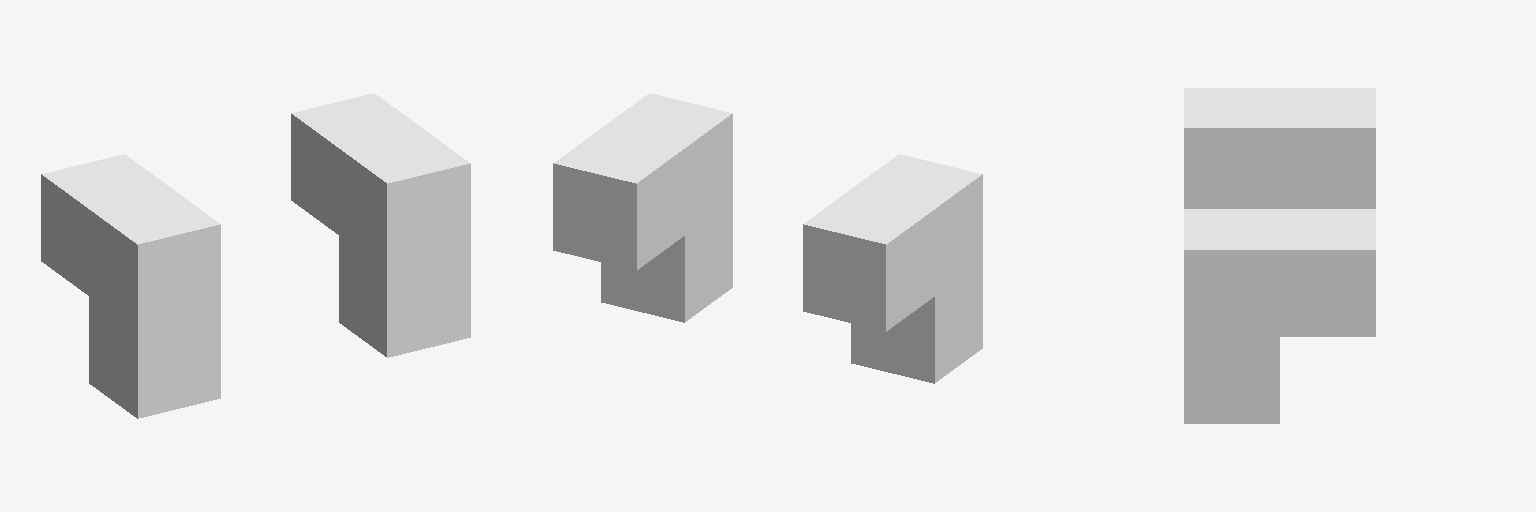
The model's file is char-272-beard_chops_long.obj.
3 renders of one model, left to right at view 1: azimuth 30°, elevation 25°; view 2: azimuth 150°, elevation 25°; view 3: azimuth 270°, elevation 25°, orthographic.
Parts seen in each view (by area): view 1: beard_chops_long; view 2: beard_chops_long; view 3: beard_chops_long.
Part boxes in pixels (x1,y1,x2,y2): beard_chops_long: (41,93,470,418); beard_chops_long: (553,93,982,383); beard_chops_long: (1184,88,1375,423).
Size of the model in its own units: 0.4 by 0.2 by 0.2.